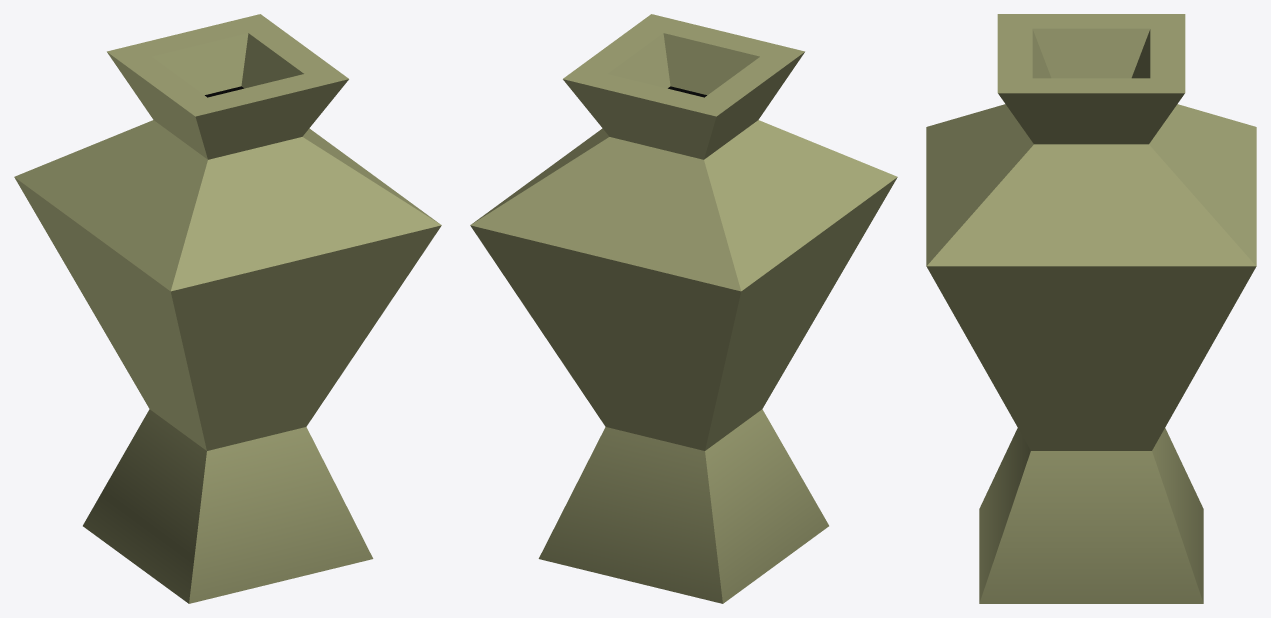
The model's file is Urn 05.FBX.
3 renders of one model, left to right at view 1: azimuth 30°, elevation 25°; view 2: azimuth 150°, elevation 25°; view 3: azimuth 270°, elevation 25°, orthographic. The views are drawn at different scales.
Visible parts, largest first — view 1: Urn 05; view 2: Urn 05; view 3: Urn 05.
Boxes of the visible parts, left/top/right/bottom form: Urn 05: left=14, top=14, right=441, bottom=603; Urn 05: left=470, top=14, right=897, bottom=603; Urn 05: left=926, top=14, right=1256, bottom=603.
Size of the model in its own units: 33.29 by 55.98 by 33.29.
